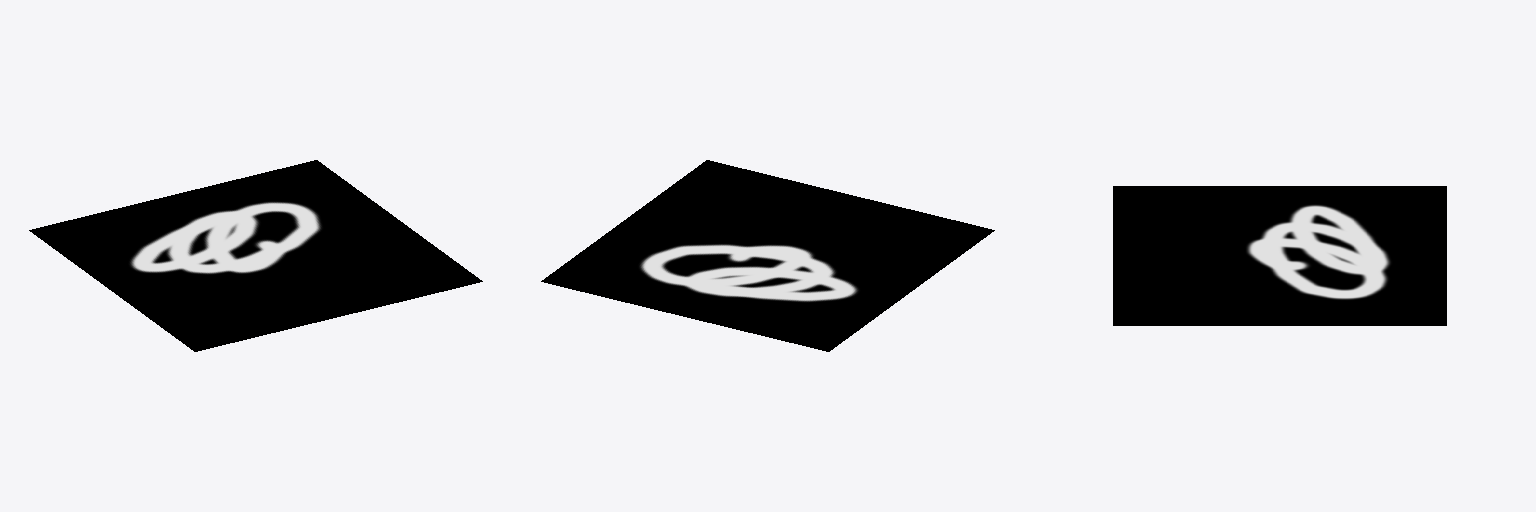
The picture shows the model from 3 angles: view 1: azimuth 30°, elevation 25°; view 2: azimuth 150°, elevation 25°; view 3: azimuth 270°, elevation 25°; orthographic projection.
Visible parts, largest first — view 1: 平面; view 2: 平面; view 3: 平面.
Part boxes in pixels (x1,y1,x2,y2): 平面: (29,160,482,351); 平面: (541,160,994,351); 平面: (1113,186,1446,325).
Bounding box in the file's own units: 2 × 0 × 2.
Materials: 1 (1 with a texture image).